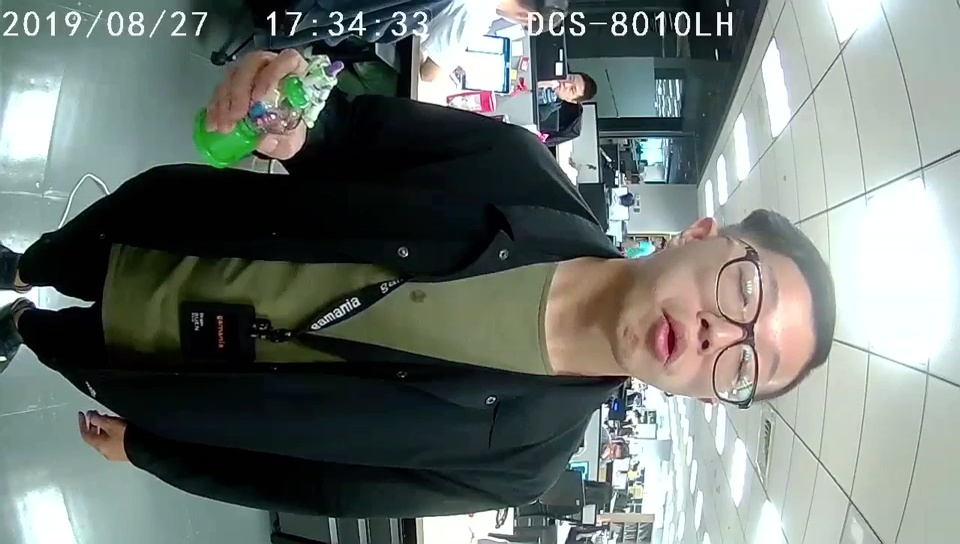buzz: (193, 51, 343, 167)
